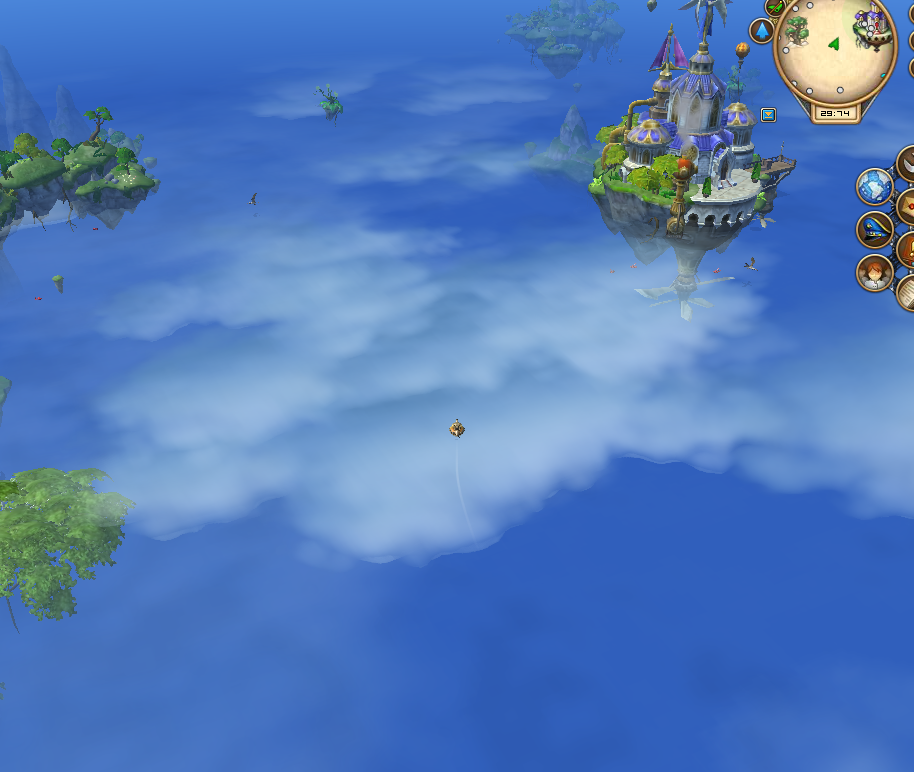dandelion-full: (307, 72, 348, 126)
